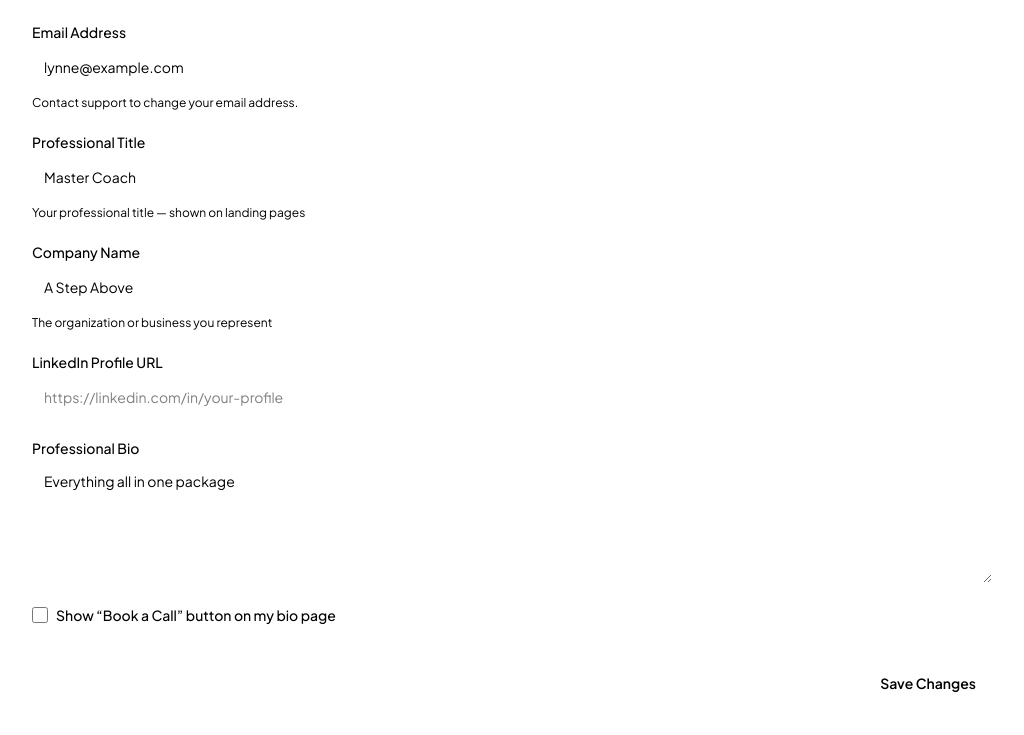
it: CoachProfileForm › renders the readable Zod issue message from a failed admin save
(page scrolled)
Click the button "Save Changes". click: {"x": 928, "y": 683}
box: [864, 663, 992, 703]
(page scrolled)
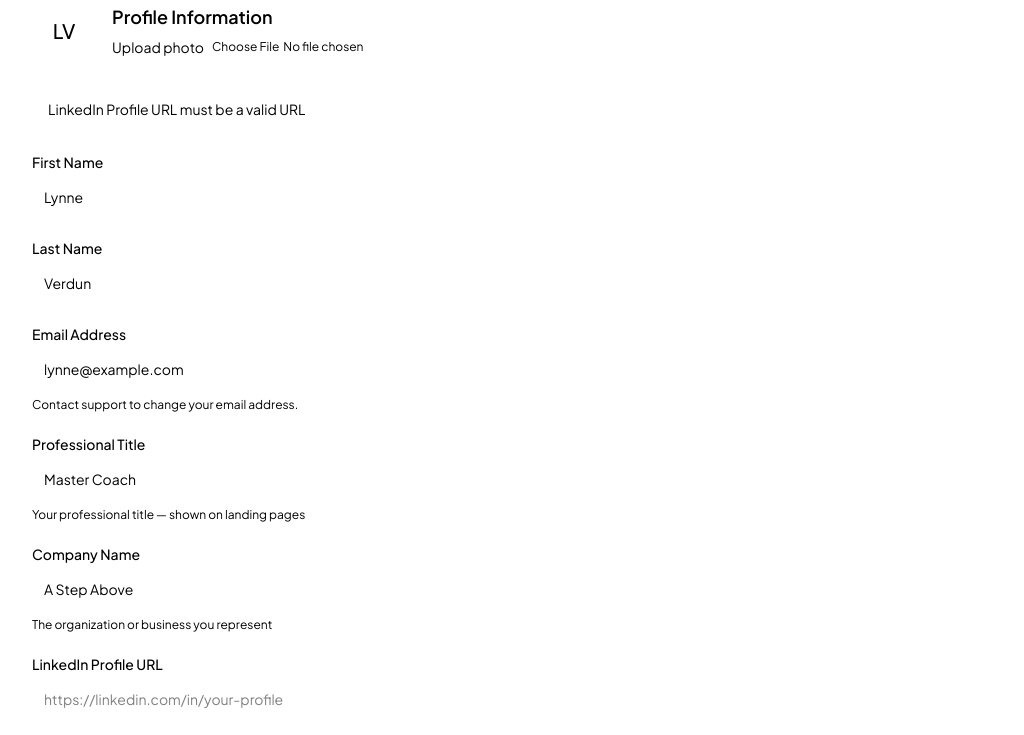
Expected: the text "LinkedIn Profile URL must be a valid URL" is shown, [48, 100, 305, 118]
